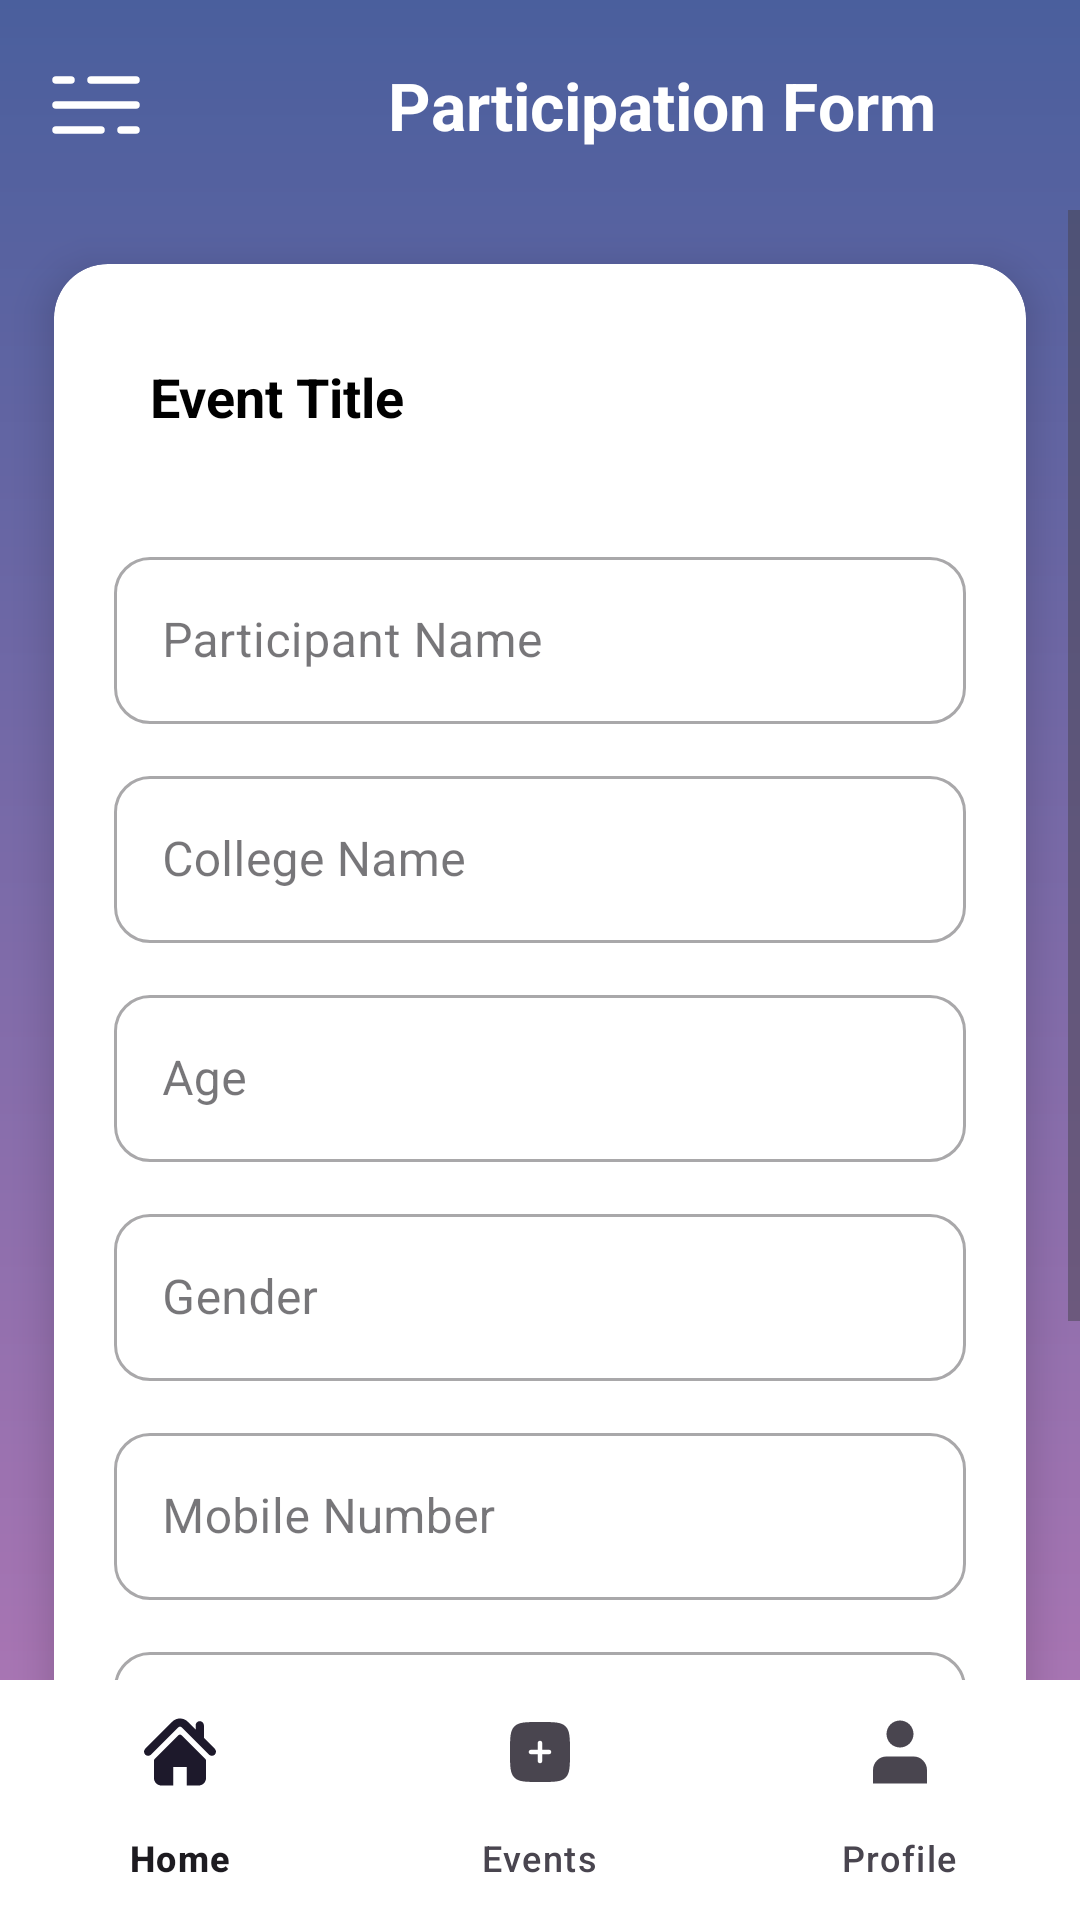

Named icons in this screenshot (1080 x 1920) and their centers, point (x, y):
menu: point (96, 105)
